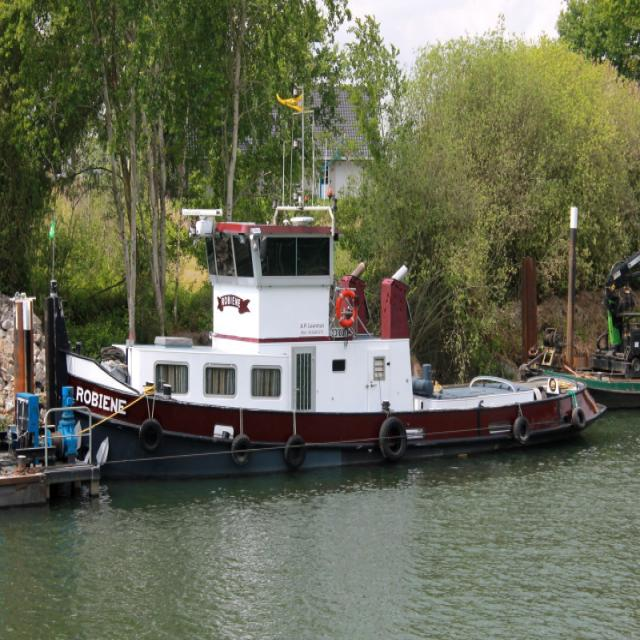tugboat: (9, 79, 612, 496)
